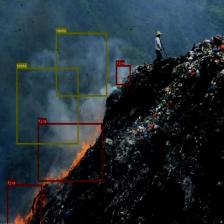fire: (38, 123, 103, 181), (6, 184, 42, 224), (116, 65, 130, 85)
smoke: (16, 67, 78, 144), (55, 32, 107, 96)
